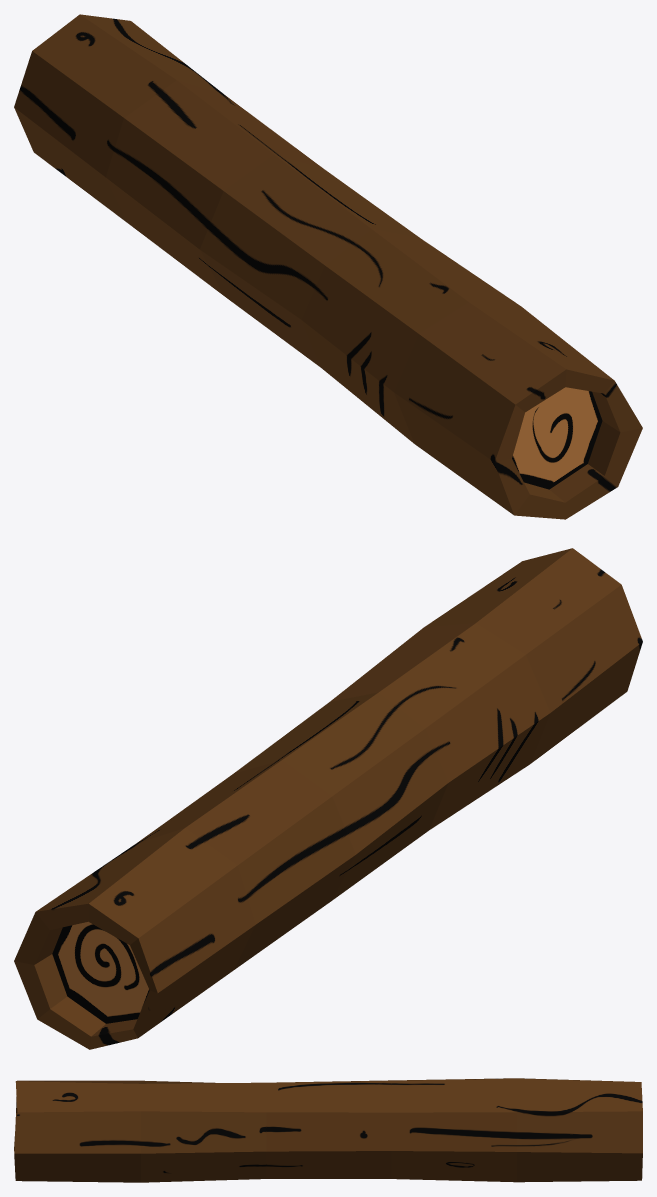
The model's file is SM_Log_Long.fbx.
The picture shows the model from 3 angles, top to bottom: view 1: azimuth 30°, elevation 25°; view 2: azimuth 150°, elevation 25°; view 3: azimuth 270°, elevation 25°; orthographic projection. The views are drawn at different scales.
Parts seen in each view (by area): view 1: SM_Log_Long; view 2: SM_Log_Long; view 3: SM_Log_Long.
Part boxes in pixels (x1=…): SM_Log_Long: x1=14, y1=14, x2=642, y2=519; SM_Log_Long: x1=14, y1=548, x2=642, y2=1049; SM_Log_Long: x1=14, y1=1078, x2=642, y2=1182.
Size of the model in its own units: 1.03 by 5.82 by 1.03.
